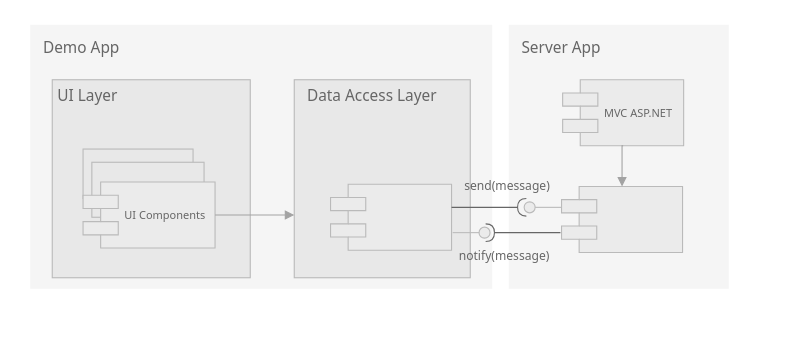
This 785x340 diagram has some shape labels left out. Here are the shapes that lost their labels. From the top down, the box of each, then its label:
(329, 183, 452, 250): SignalR Client Package
(560, 185, 683, 252): SignalR Package
